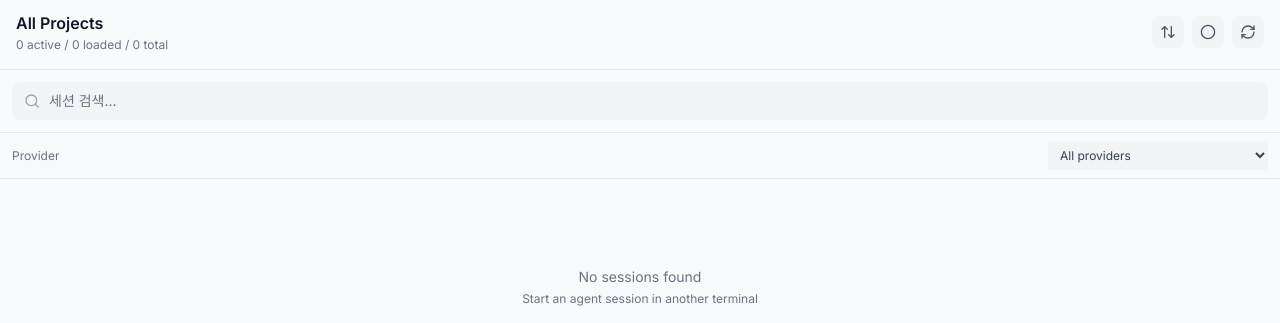
Test case: SessionList › sort dropdown › closes sort menu after selecting an option
Click the button titled "정렬:".
click(1168, 32)  # box [1152, 16, 1184, 48]
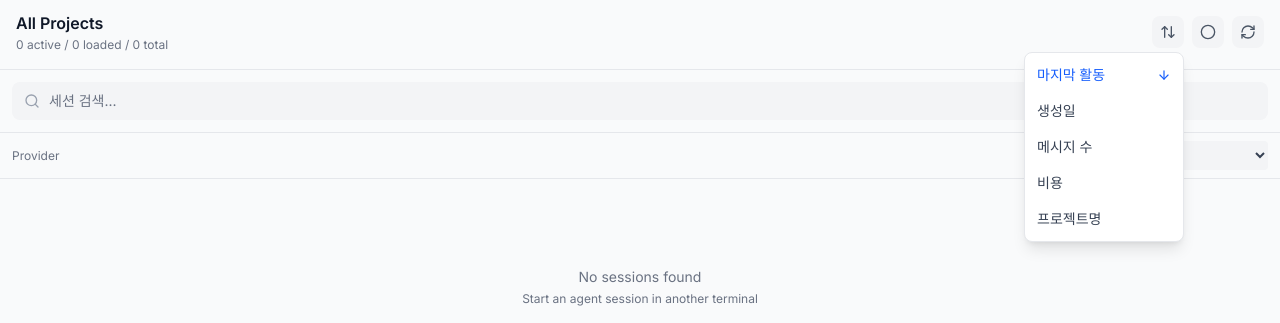
Expected: the text "생성일" is shown, [1037, 101, 1076, 121]
Click the button "생성일".
click(1104, 111)  # box [1025, 93, 1183, 129]
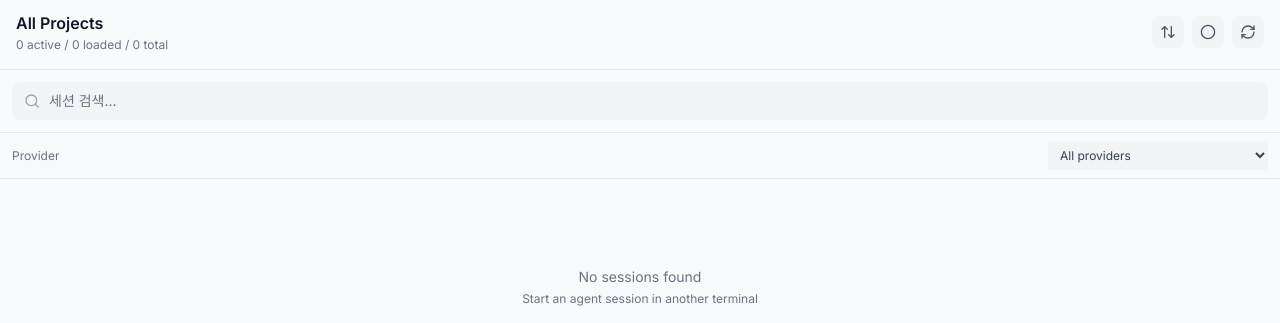
Expected: the button "메시지 수" is gone
